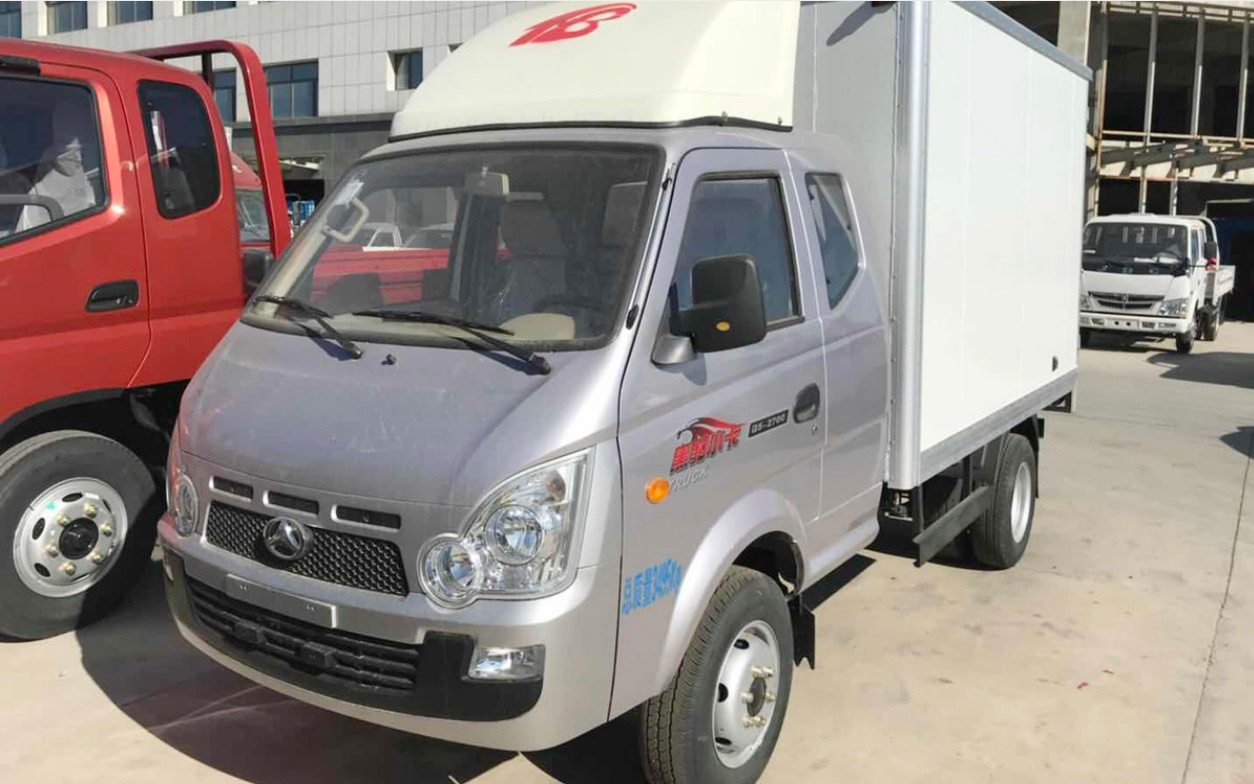truck: (143, 24, 1117, 769)
